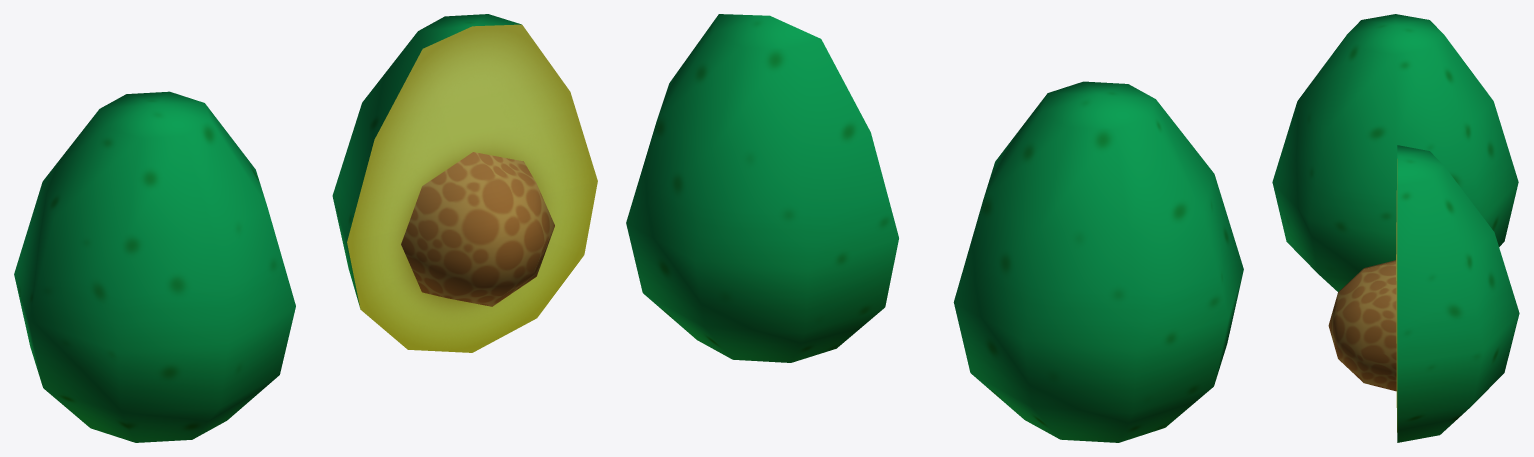
The model's file is avocado.fbx.
3 renders of one model, left to right at view 1: azimuth 30°, elevation 25°; view 2: azimuth 150°, elevation 25°; view 3: azimuth 270°, elevation 25°, orthographic. The views are drawn at different scales.
Parts seen in each view (by area): view 1: avocado_mesh, avocado_sliced_mesh; view 2: avocado_mesh, avocado_sliced_mesh; view 3: avocado_mesh, avocado_sliced_mesh.
Part boxes in pixels (box(x1,y1,x2,y2)): avocado_mesh: box(14, 91, 295, 442); avocado_sliced_mesh: box(332, 14, 597, 352); avocado_mesh: box(953, 81, 1243, 442); avocado_sliced_mesh: box(626, 14, 898, 362); avocado_mesh: box(1272, 14, 1518, 291); avocado_sliced_mesh: box(1328, 145, 1519, 442).
Bounding box in the file's own units: 3.58 × 1.96 × 1.59.
